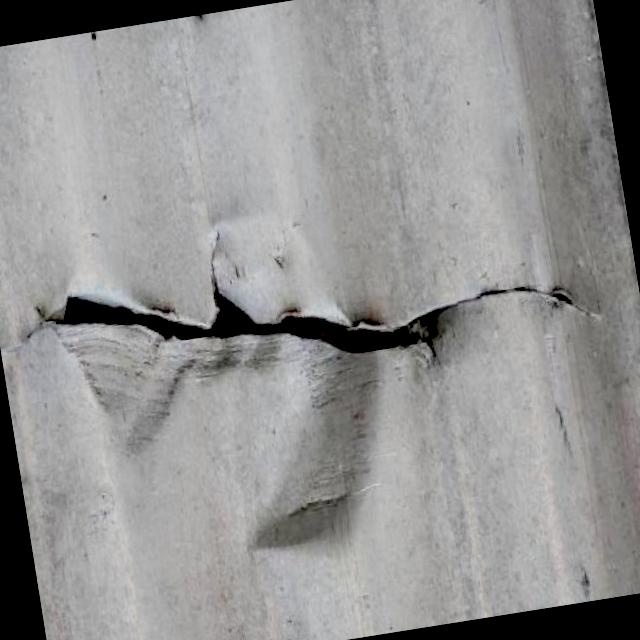crack: (19, 227, 613, 372)
dent: (240, 360, 386, 567)
